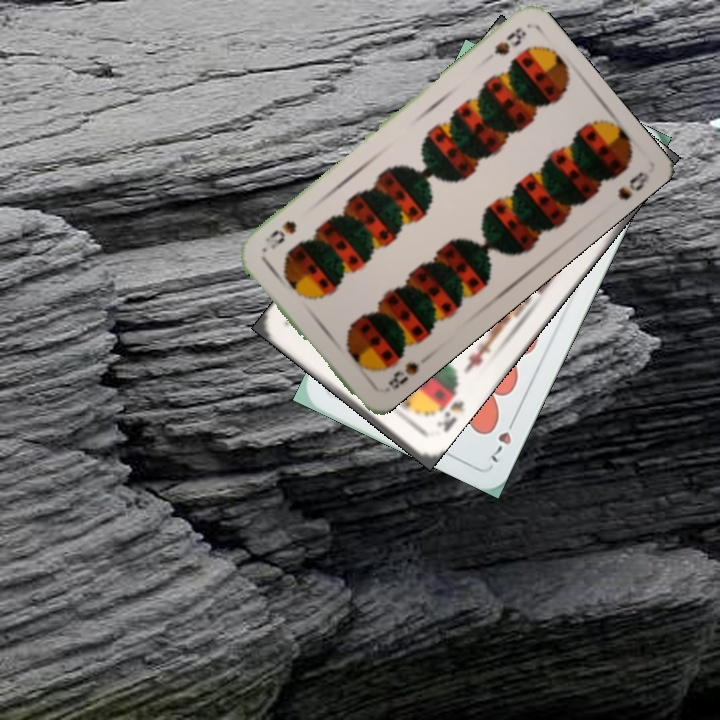H7: (486, 411, 520, 466)
S8: (490, 23, 529, 58), (384, 358, 421, 392)
SK: (432, 396, 467, 435)
